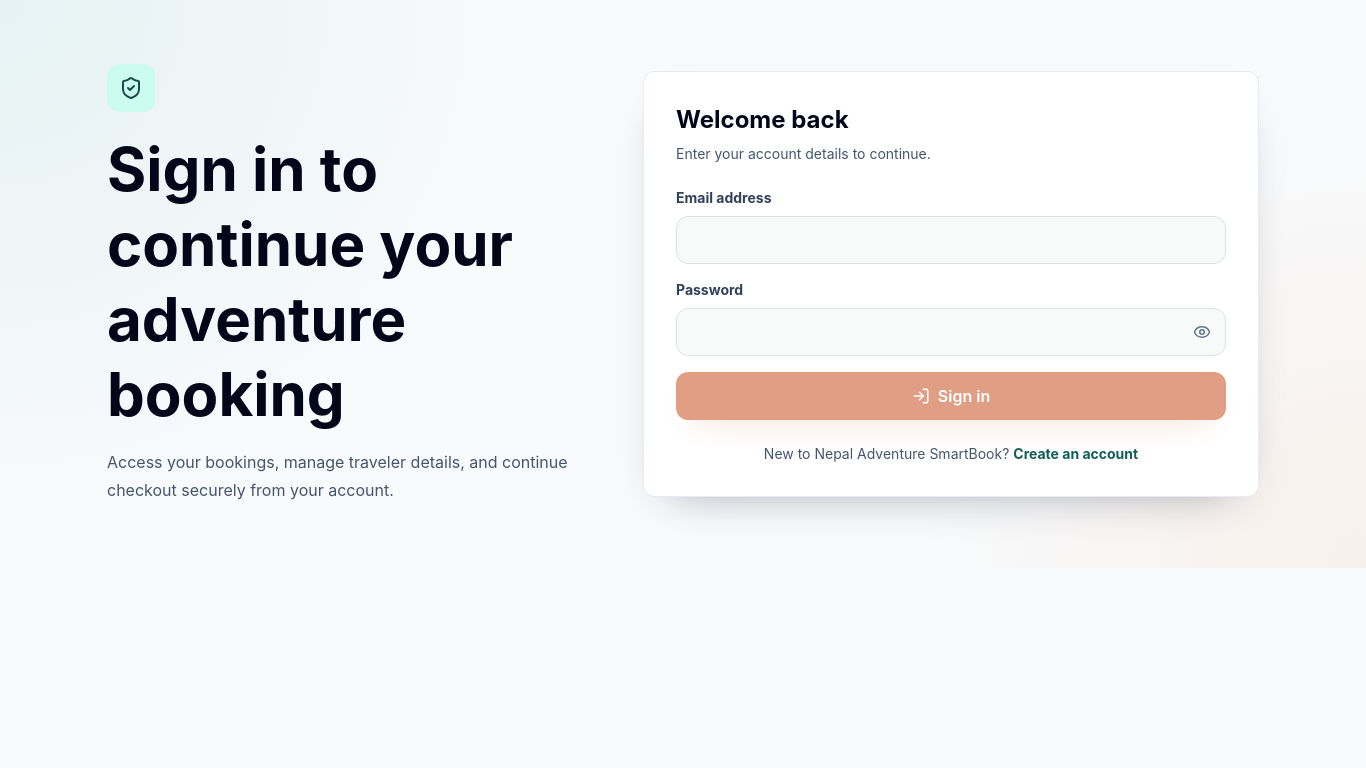
Test: authentication and protected routes › validates login fields and rejects invalid credentials clearly
Expected: the button "Sign in" is disabled, [676,372,1226,420]
Type "wrong-email" into the field labelled "Email address" at [951, 240], box [676,216,1226,264]
Press Tab
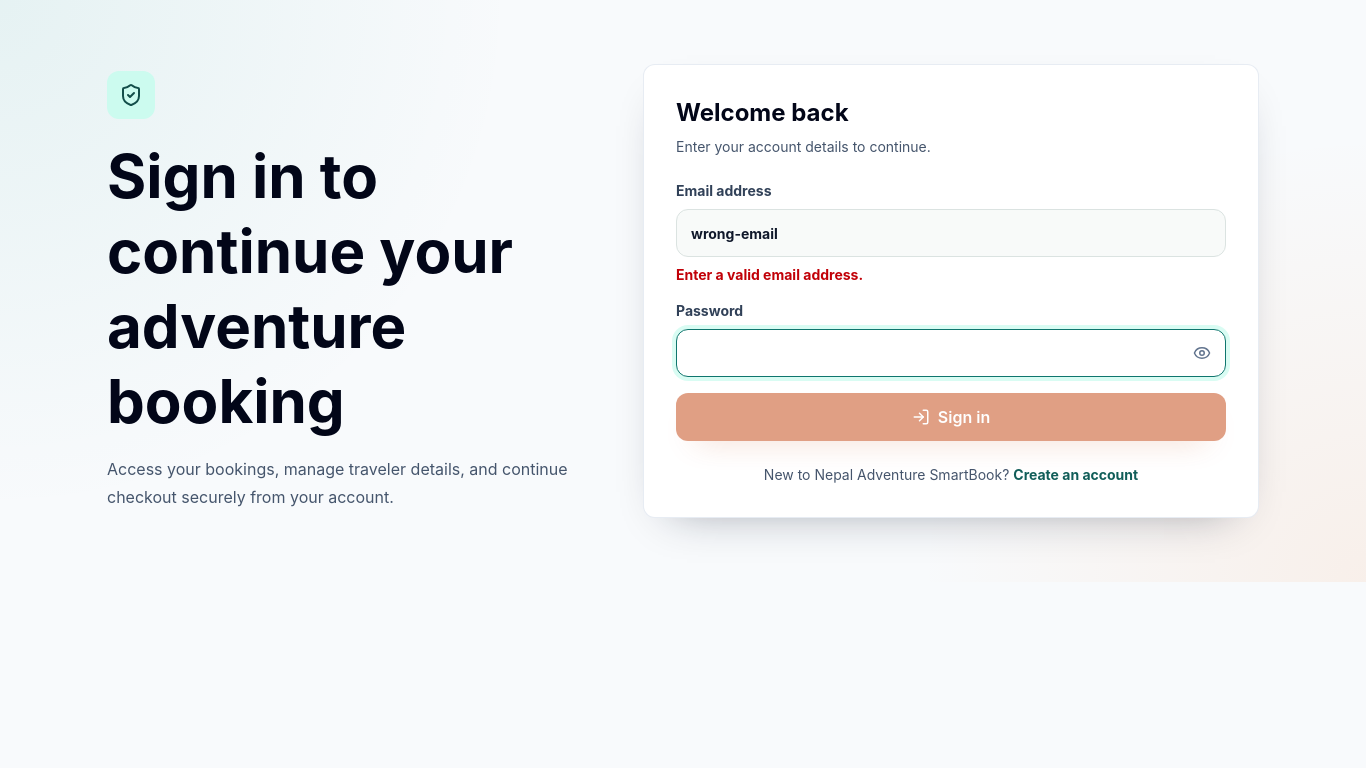
Type "short" into the password field labelled "Password" at [951, 353], box [676,329,1226,377]
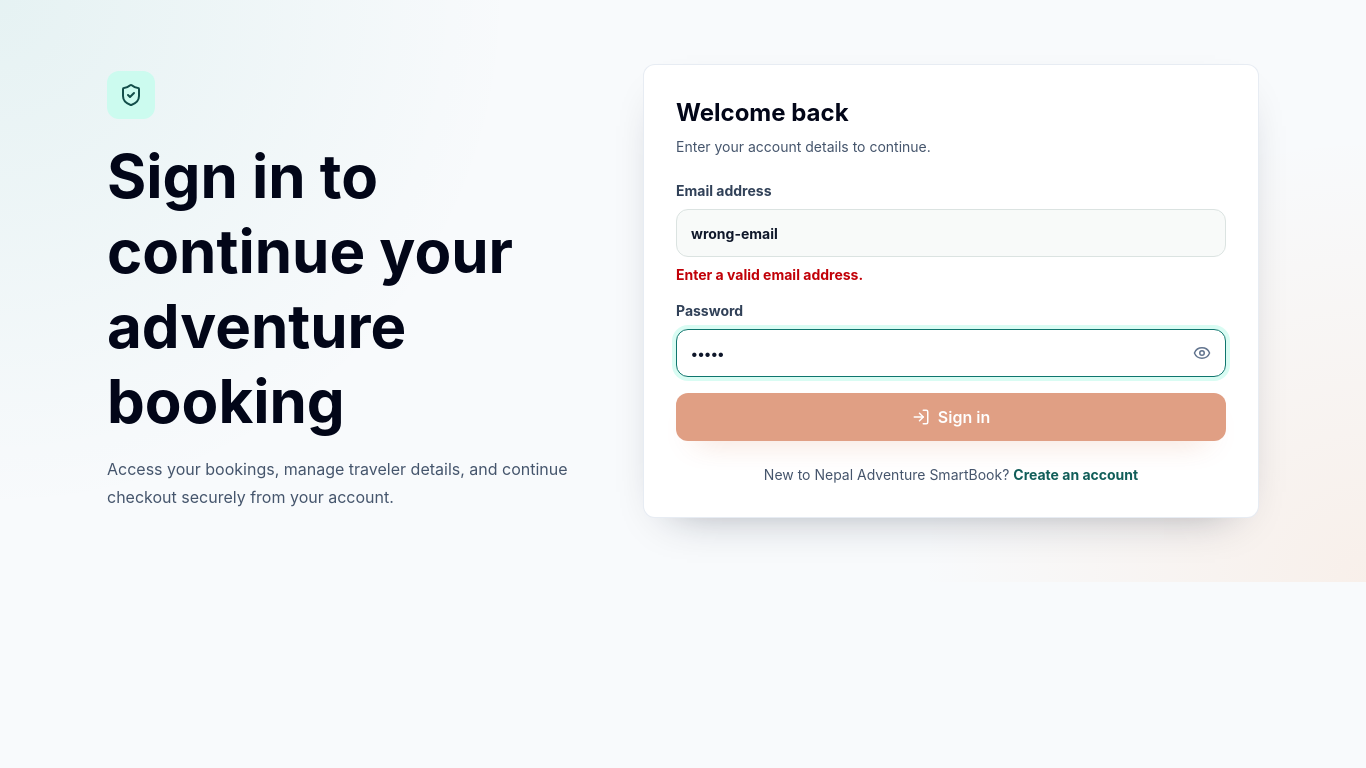
Press Tab
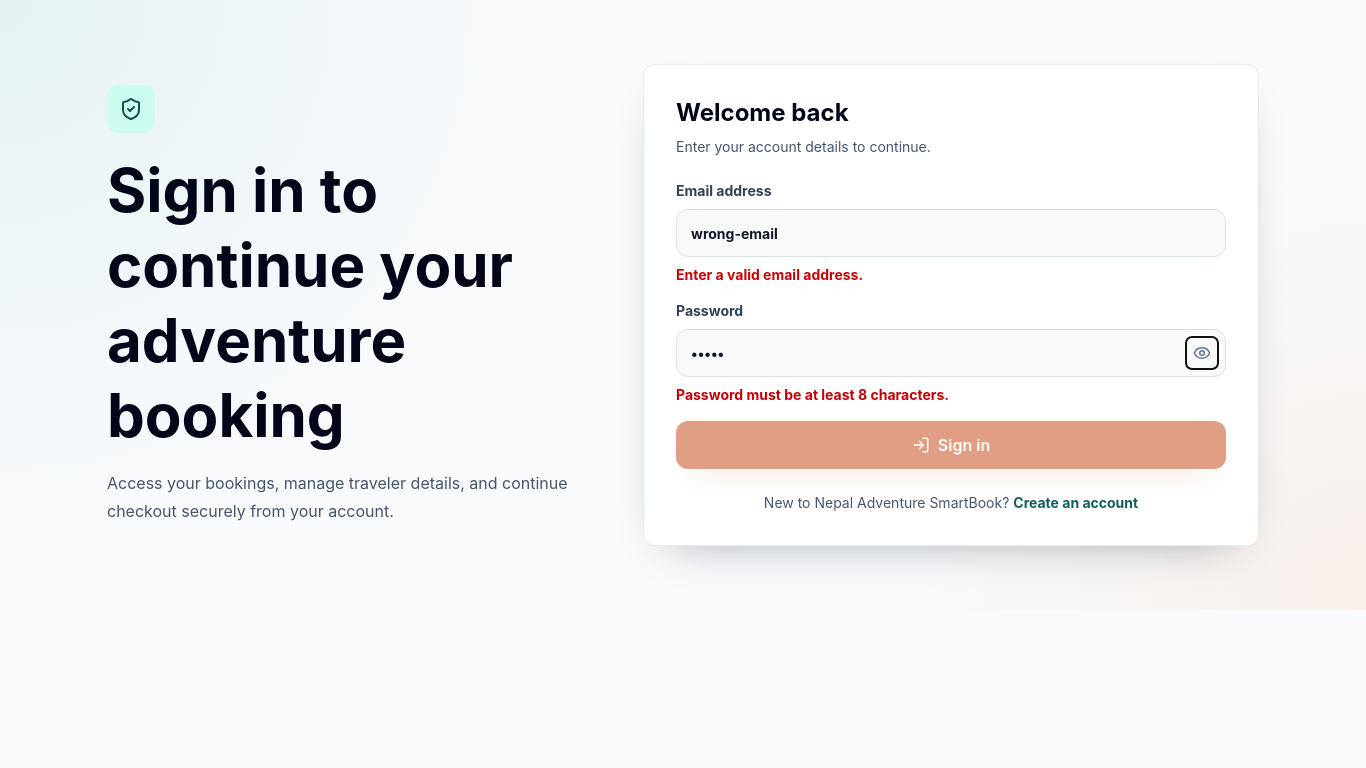
Expected: the text "Enter a valid email address." is shown, [676,266,863,283]
Expected: the text "Password must be at least 8 characters." is shown, [676,386,949,403]
Replace the text in the field labelled "Email address Enter a valid email address." with "user@example.com" at [951, 233], box [676,209,1226,257]
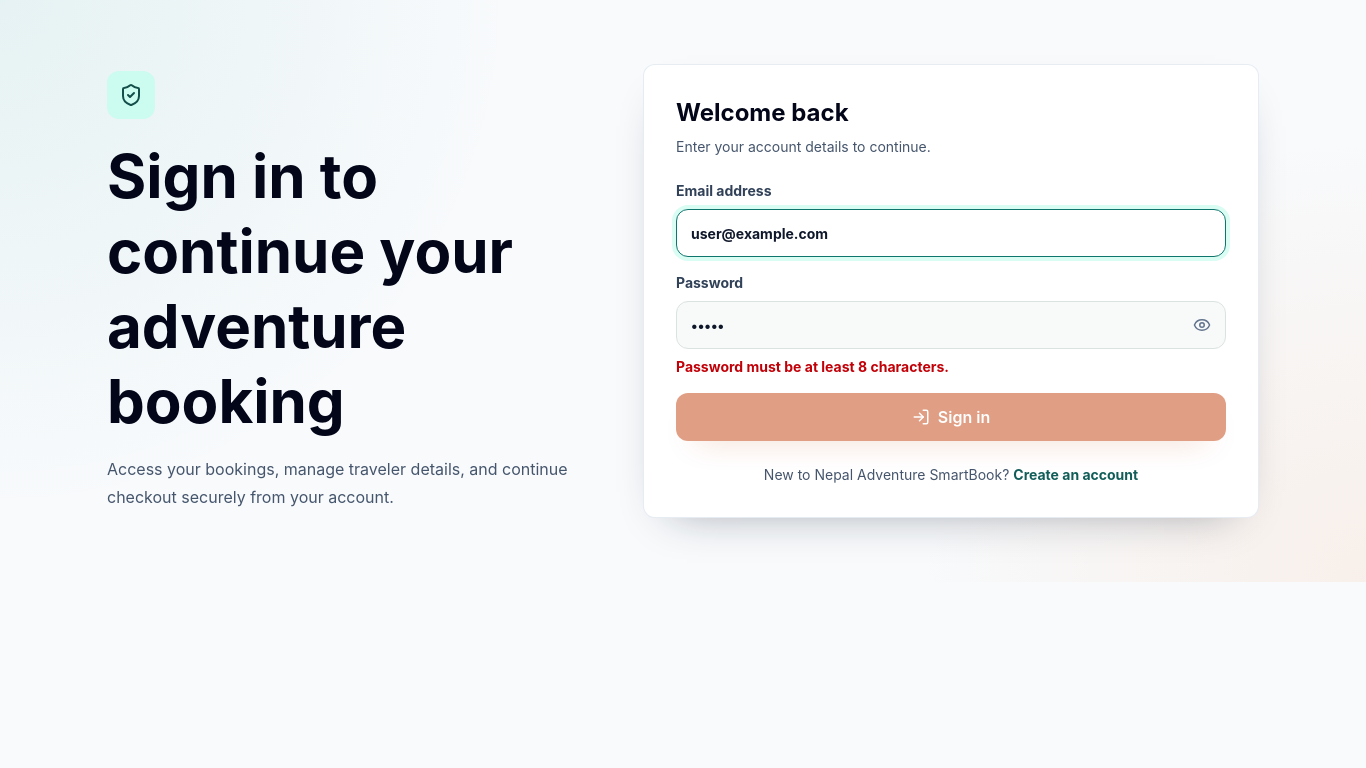
Type "WrongPass1" into the password field labelled "Password Password must be at least 8 characters." at [951, 325], box [676,301,1226,349]
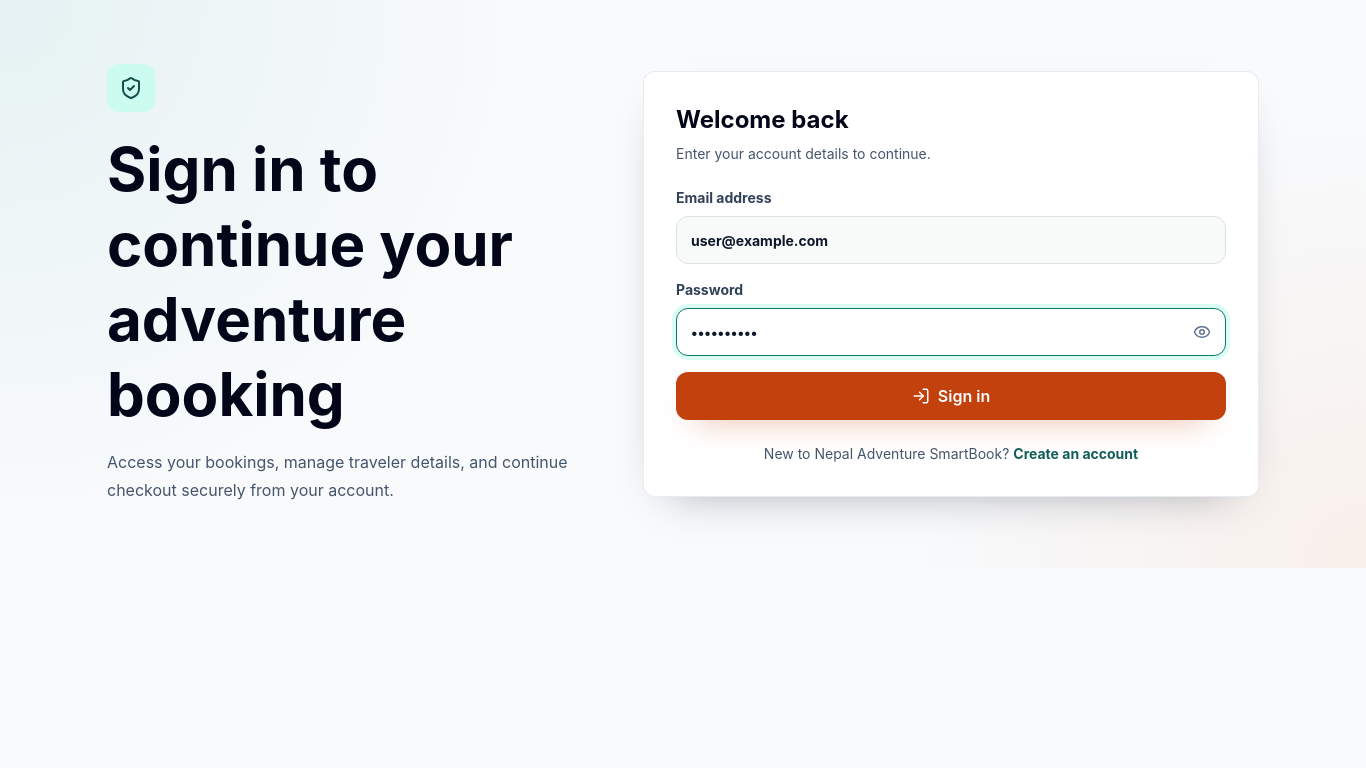
Click the button "Sign in" at [951, 396], box [676,372,1226,420]
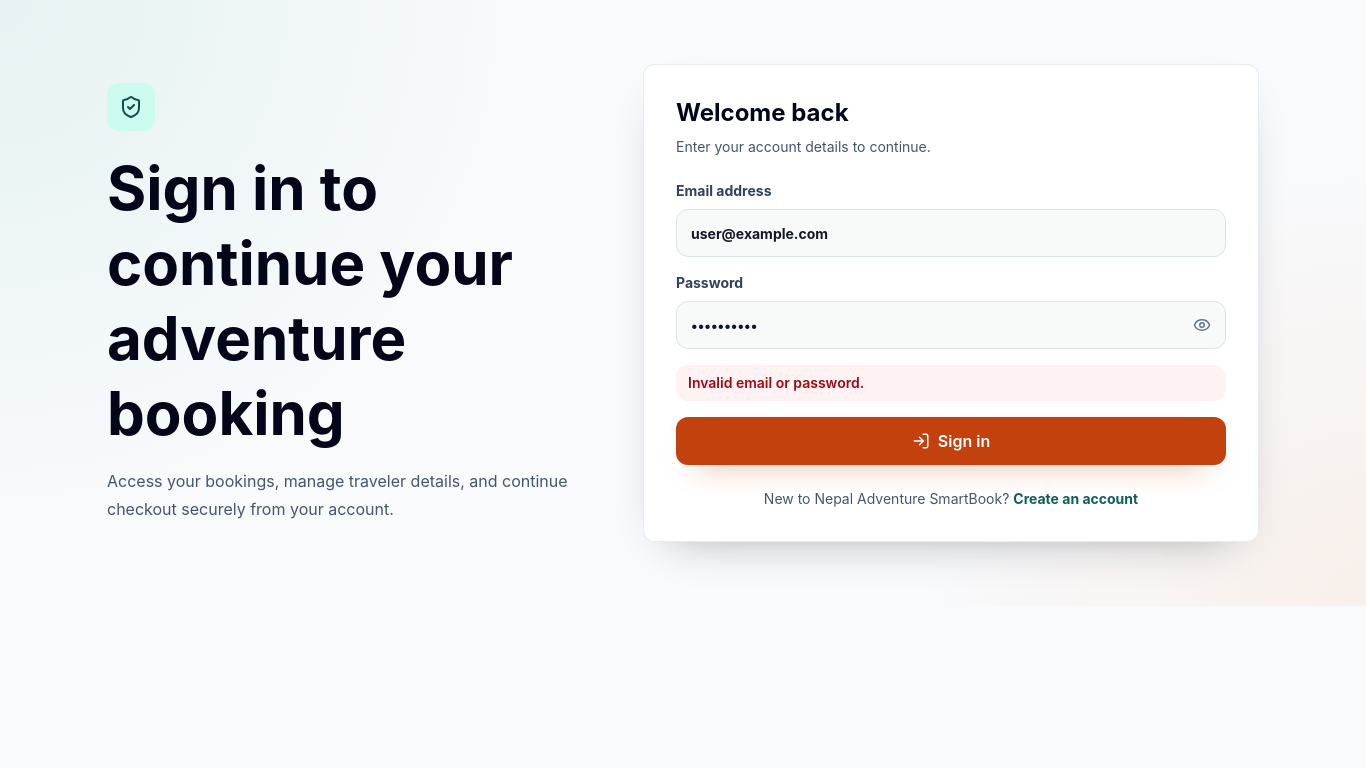
Expected: the text "Invalid email or password." is shown, [676,365,1226,401]
